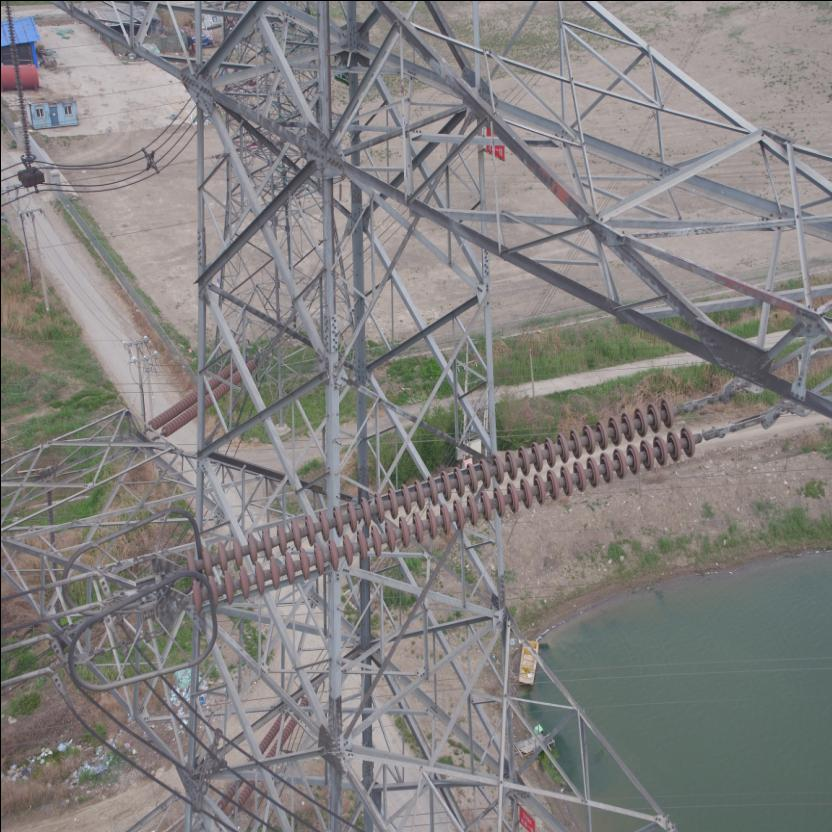insulator: (176, 392, 718, 614), (145, 354, 254, 438)
